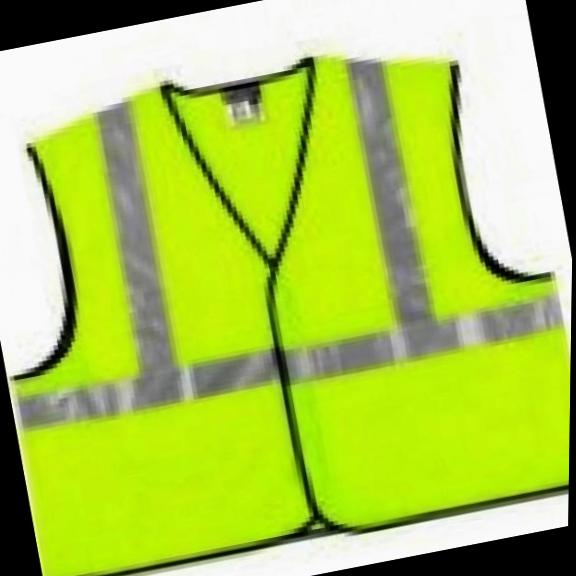safety_vest: (0, 2, 576, 576)
